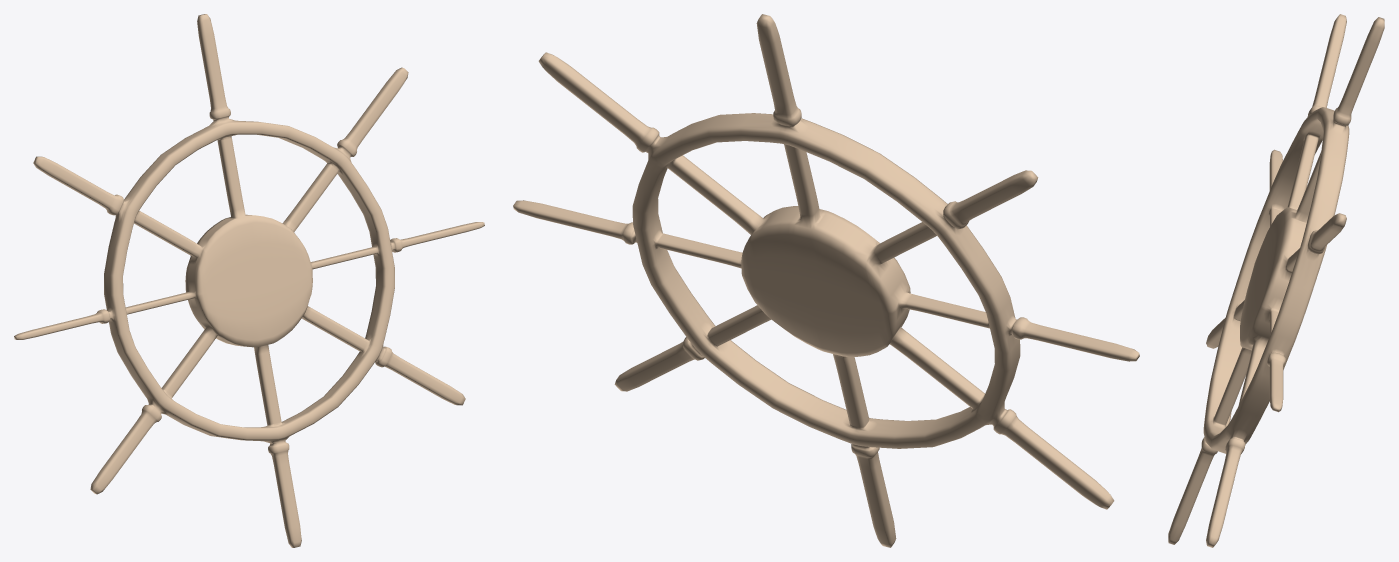
The model's file is gouvernailV5.fbx.
3 views of the same model, side by side, from view 1: azimuth 30°, elevation 25°; view 2: azimuth 150°, elevation 25°; view 3: azimuth 270°, elevation 25° (orthographic). The views are drawn at different scales.
Visible parts, largest first — view 1: pCylinder3; view 2: pCylinder3; view 3: pCylinder3.
Boxes of the visible parts, x1,y1,x2,y2 form: pCylinder3: [14, 14, 484, 547]; pCylinder3: [513, 14, 1139, 547]; pCylinder3: [1168, 14, 1384, 547].
Size of the model in its own units: 8.11 by 7.72 by 2.88.
